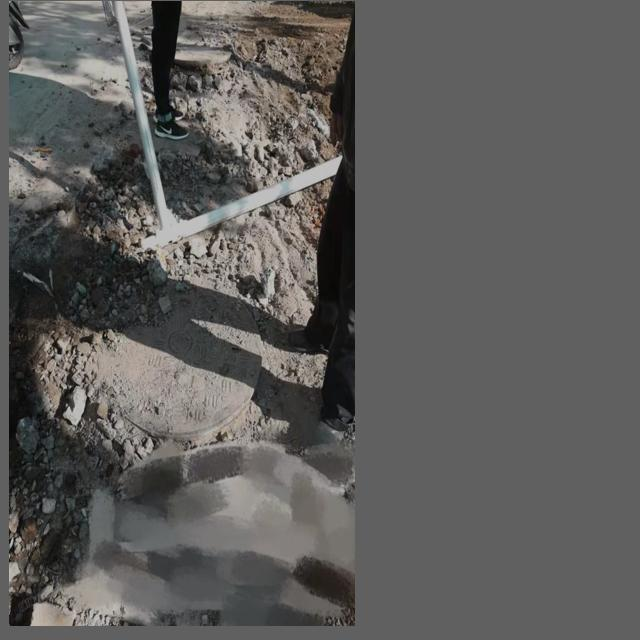circle: (66, 273, 285, 471)
